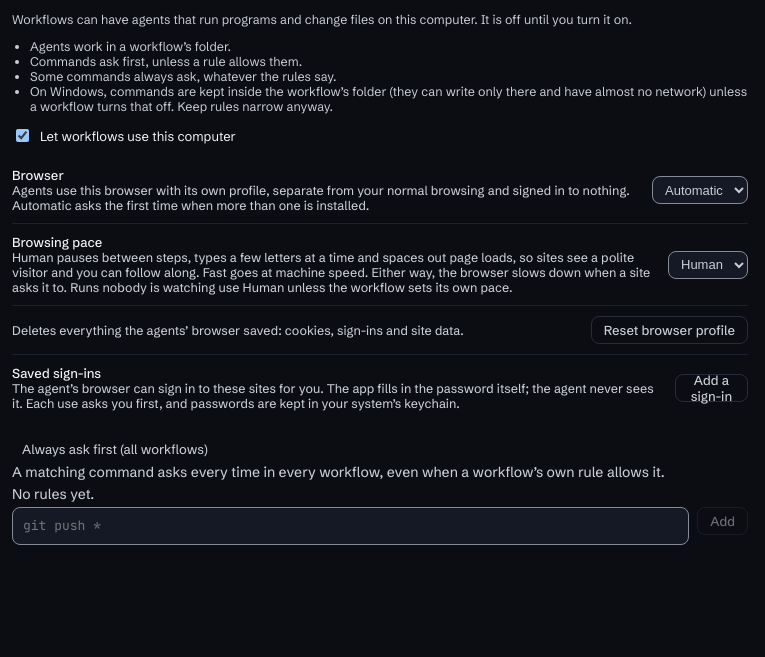
ComputerSection › browser › resets the profile and says so
Click the button "Reset browser profile".
click(669, 330)  # box [591,316,748,344]
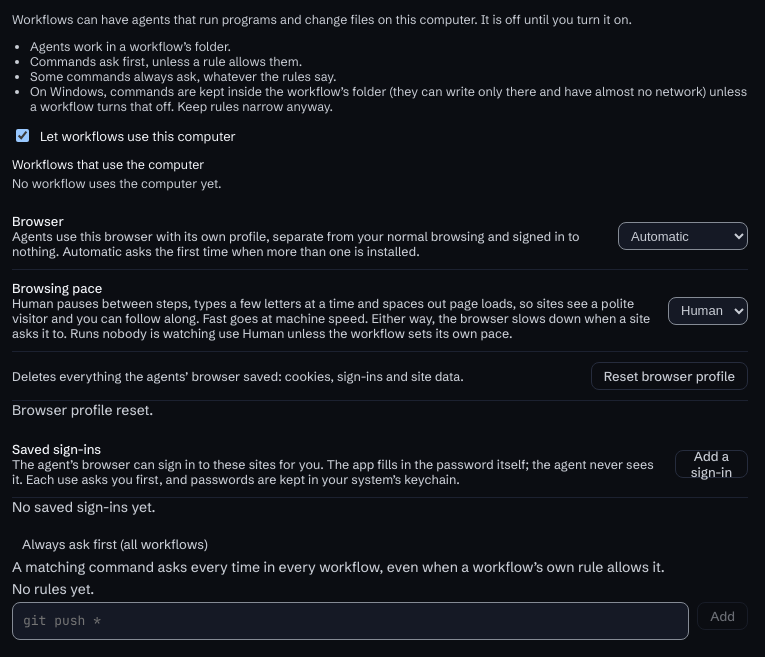
Expected: the text "Browser profile reset." is shown, [12,401,153,419]
